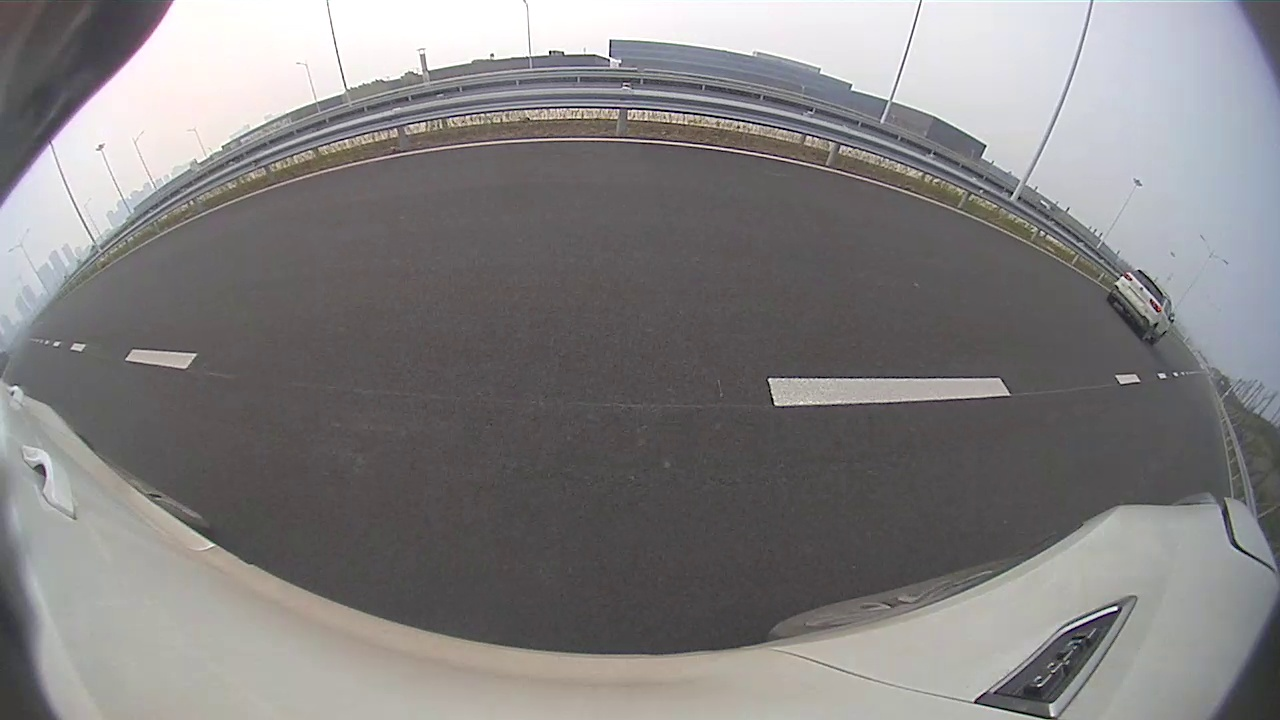car: (692, 152, 744, 190)
rear: (699, 174, 706, 191)
